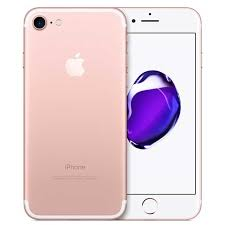iphone: (20, 6, 129, 223)
iphone7: (20, 5, 129, 222)
